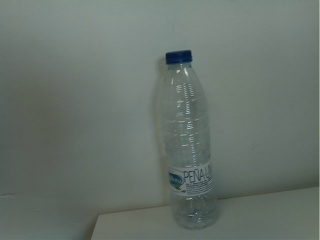botella plastico: (158, 48, 224, 234)
